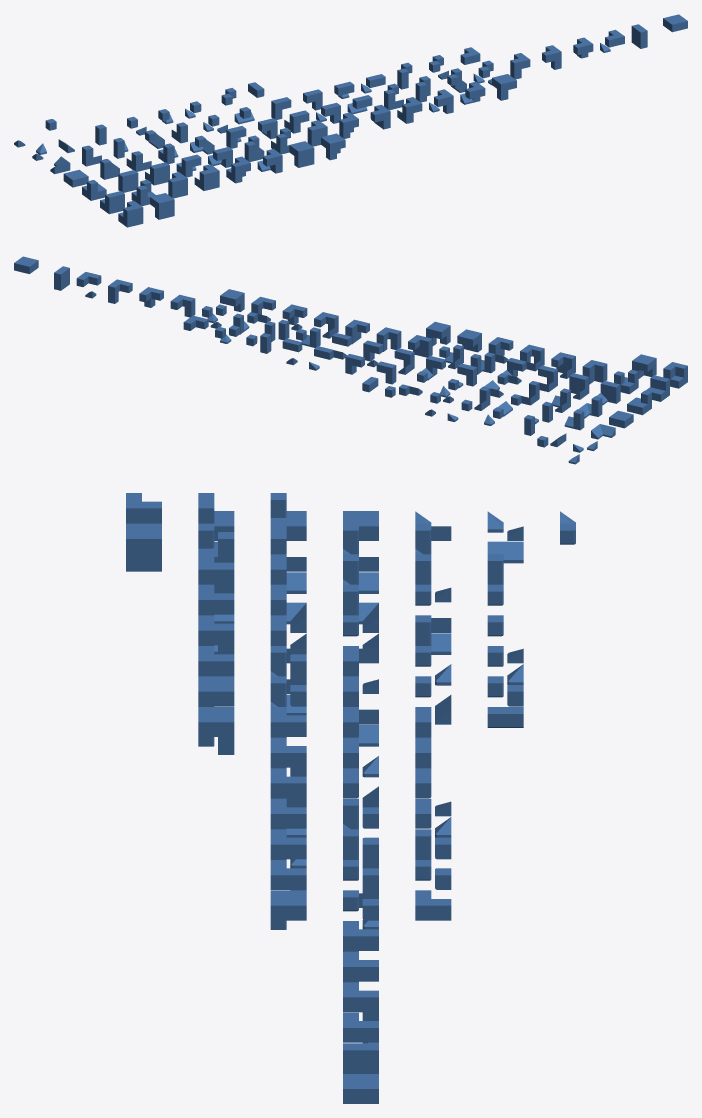
The model's file is GenTiles.glb.
The picture shows the model from 3 angles, top to bottom: view 1: azimuth 30°, elevation 25°; view 2: azimuth 150°, elevation 25°; view 3: azimuth 270°, elevation 25°; orthographic projection. The views are drawn at different scales.
Visible parts, largest first — view 1: 11110011_gentiles, 11110111_gentiles, 01111111_gentiles, 01111011_gentiles, 01111110_gentiles, 11110101_gentiles, 00111111_gentiles, 11110001_gentiles, 01110111_gentiles, 01111010_gentiles, 01111101_gentiles, 00111011_gentiles (+24 smaller); view 2: 01111111_gentiles, 01111101_gentiles, 01111011_gentiles, 01110111_gentiles, 11110111_gentiles, 00111111_gentiles, 11110101_gentiles, 01011111_gentiles, 01110101_gentiles, 00111011_gentiles, 01110011_gentiles, 11110011_gentiles (+30 smaller); view 3: 11110111_gentiles, 11110101_gentiles, 11110001_gentiles, 01110110_gentiles, 01110111_gentiles, 01111101_gentiles, 01111011_gentiles, 01111001_gentiles, 11110011_gentiles, 00111101_gentiles, 00011111_gentiles, 01011111_gentiles (+24 smaller).
Boxes of the visible parts, x1,y1,x2,y2 form: 11110011_gentiles: [289, 141, 314, 167]; 11110111_gentiles: [150, 193, 174, 219]; 01111111_gentiles: [118, 200, 143, 227]; 01111011_gentiles: [194, 164, 219, 190]; 01111110_gentiles: [257, 149, 282, 173]; 11110101_gentiles: [321, 133, 345, 160]; 00111111_gentiles: [100, 191, 124, 214]; 11110001_gentiles: [492, 74, 516, 100]; 01110111_gentiles: [168, 172, 187, 198]; 01111010_gentiles: [429, 89, 453, 113]; 01111101_gentiles: [226, 156, 250, 183]; 00111011_gentiles: [145, 162, 169, 185]; 01111111_gentiles: [663, 362, 687, 388]; 01111101_gentiles: [520, 344, 544, 371]; 01111011_gentiles: [551, 352, 575, 378]; 01110111_gentiles: [582, 360, 607, 384]; 11110111_gentiles: [632, 354, 656, 378]; 00111111_gentiles: [646, 375, 669, 401]; 11110101_gentiles: [426, 321, 450, 345]; 01011111_gentiles: [614, 369, 638, 394]; 01110101_gentiles: [376, 327, 401, 351]; 00111011_gentiles: [569, 373, 589, 399]; 01110011_gentiles: [408, 335, 432, 357]; 11110011_gentiles: [457, 329, 481, 352]; 11110111_gentiles: [126, 523, 161, 571]; 11110101_gentiles: [198, 707, 234, 754]; 11110001_gentiles: [270, 890, 306, 929]; 01110110_gentiles: [270, 768, 306, 807]; 01110111_gentiles: [198, 554, 234, 593]; 01111101_gentiles: [198, 615, 234, 654]; 01111011_gentiles: [198, 584, 234, 623]; 01111001_gentiles: [270, 798, 306, 837]; 11110011_gentiles: [198, 676, 234, 706]; 00111101_gentiles: [270, 584, 306, 632]; 00011111_gentiles: [270, 493, 306, 540]; 01011111_gentiles: [198, 523, 234, 562].
Size of the model in its own units: 39 by 1 by 12.45.
